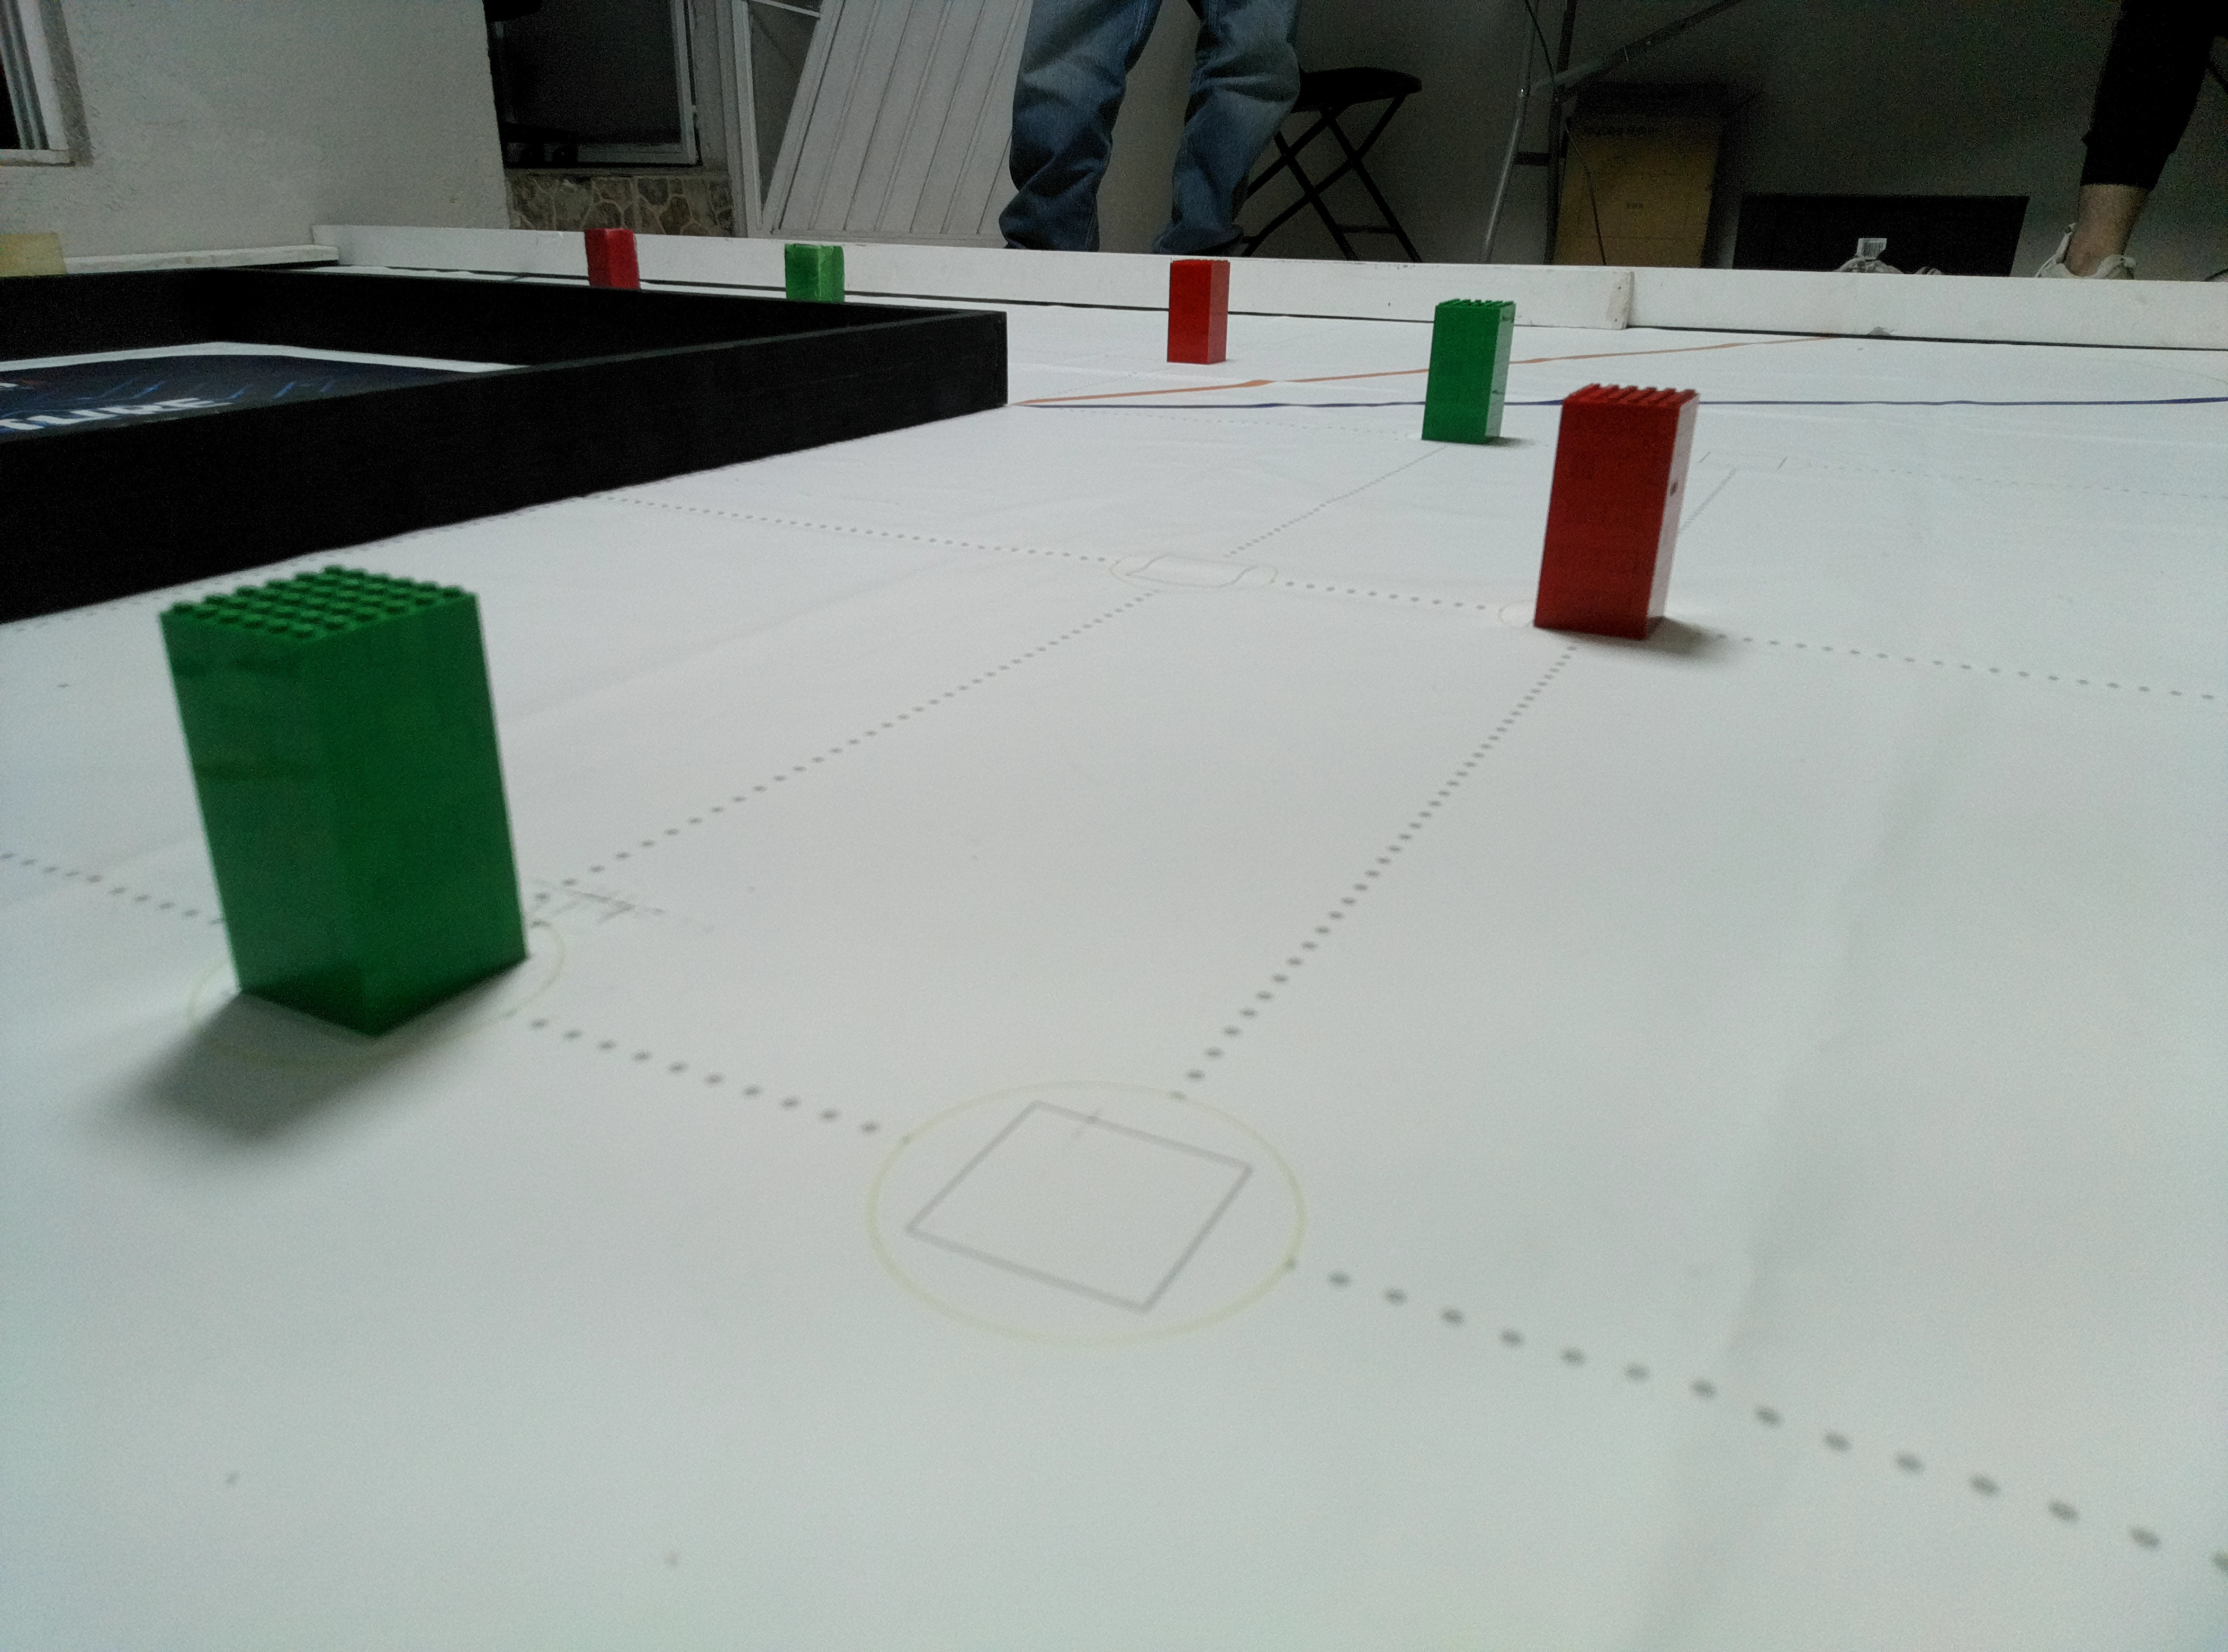greenbox: (151, 567, 528, 1048), (1421, 297, 1520, 449), (779, 243, 847, 305)
redbox: (1529, 382, 1699, 635), (1164, 250, 1230, 366), (583, 226, 644, 293)
